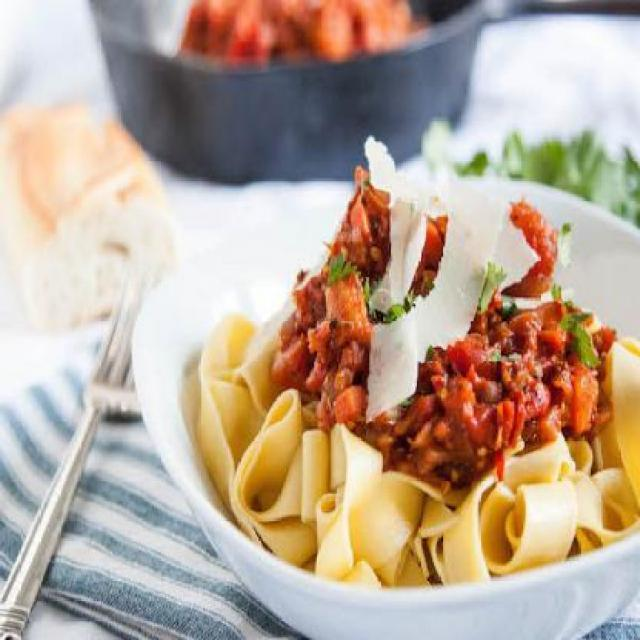Pasta al ragu: (177, 93, 631, 599)
